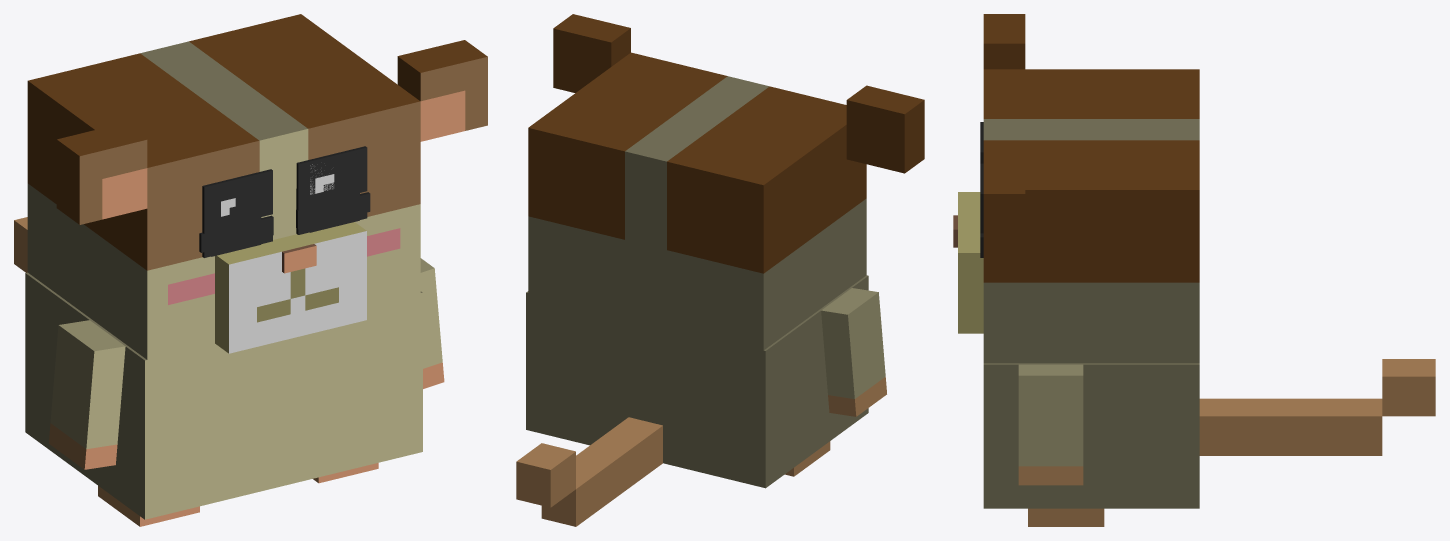
3 renders of one model, left to right at view 1: azimuth 30°, elevation 25°; view 2: azimuth 150°, elevation 25°; view 3: azimuth 270°, elevation 25°, orthographic. The views are drawn at different scales.
Parts seen in each view (by area): view 1: Ch_183_Head, Ch_183, Ch_183_Arm_L, Ch_183_Eye_01, Ch_183_Eye_03_L, Ch_183_Arm_R, Ch_183_Eye_03_R, Ch_183_Eye_02, Ch_183_Leg_L, Ch_183_Tail; view 2: Ch_183_Head, Ch_183, Ch_183_Tail, Ch_183_Arm_L; view 3: Ch_183_Head, Ch_183, Ch_183_Tail, Ch_183_Arm_R, Ch_183_Leg_R.
Part boxes in pixels (x1=…): Ch_183_Head: x1=27, y1=14, x2=487, y2=359; Ch_183: x1=25, y1=272, x2=422, y2=519; Ch_183_Arm_L: x1=49, y1=320, x2=125, y2=469; Ch_183_Eye_01: x1=211, y1=152, x2=359, y2=256; Ch_183_Eye_03_L: x1=202, y1=169, x2=272, y2=257; Ch_183_Arm_R: x1=420, y1=258, x2=444, y2=388; Ch_183_Eye_03_R: x1=296, y1=146, x2=367, y2=234; Ch_183_Eye_02: x1=199, y1=192, x2=370, y2=252; Ch_183_Leg_L: x1=98, y1=486, x2=199, y2=526; Ch_183_Tail: x1=14, y1=217, x2=27, y2=272; Ch_183_Head: x1=528, y1=14, x2=924, y2=350; Ch_183: x1=526, y1=275, x2=868, y2=488; Ch_183_Tail: x1=516, y1=417, x2=662, y2=526; Ch_183_Arm_L: x1=821, y1=288, x2=886, y2=416; Ch_183_Head: x1=953, y1=14, x2=1199, y2=363; Ch_183: x1=983, y1=363, x2=1199, y2=508; Ch_183_Tail: x1=1199, y1=359, x2=1435, y2=455; Ch_183_Arm_R: x1=1018, y1=364, x2=1083, y2=485; Ch_183_Leg_R: x1=1028, y1=508, x2=1104, y2=526.
Bounding box in the file's own units: 9.89 × 9.49 × 11.19.
